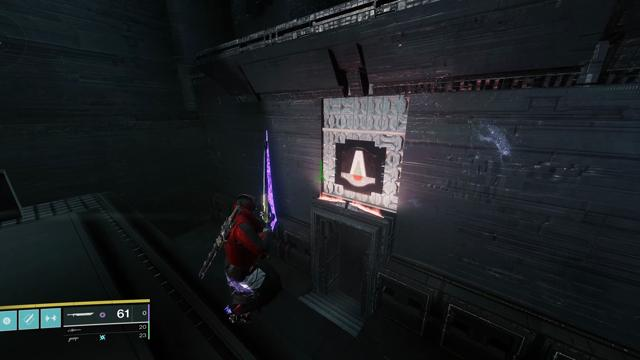enter: (341, 148, 379, 187)
